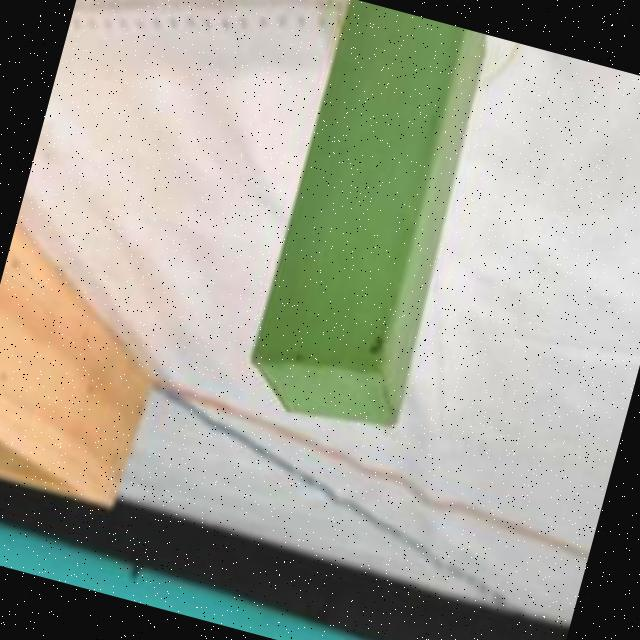greenbox: (234, 0, 499, 443)
